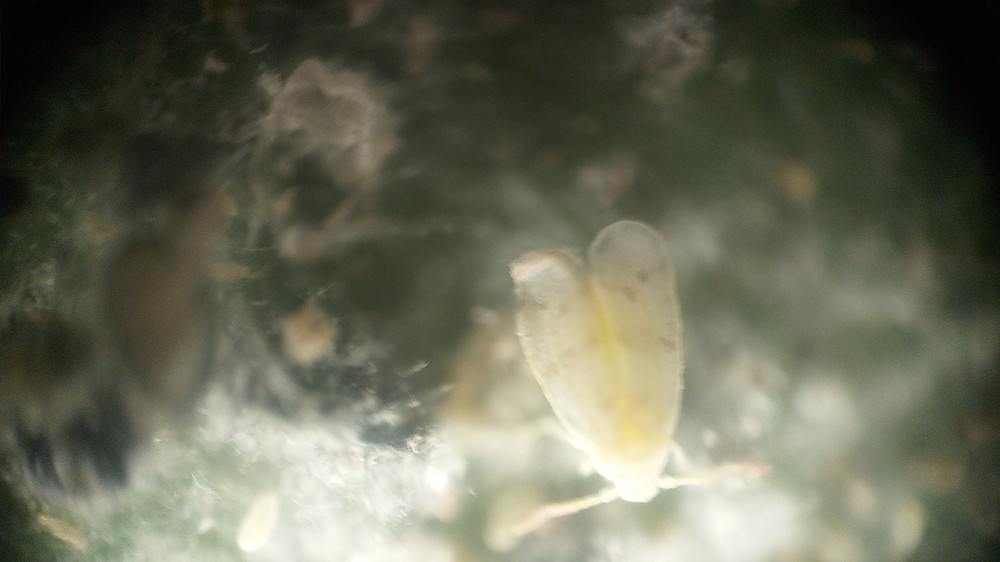Mosca Blanca: (483, 230, 802, 546)
